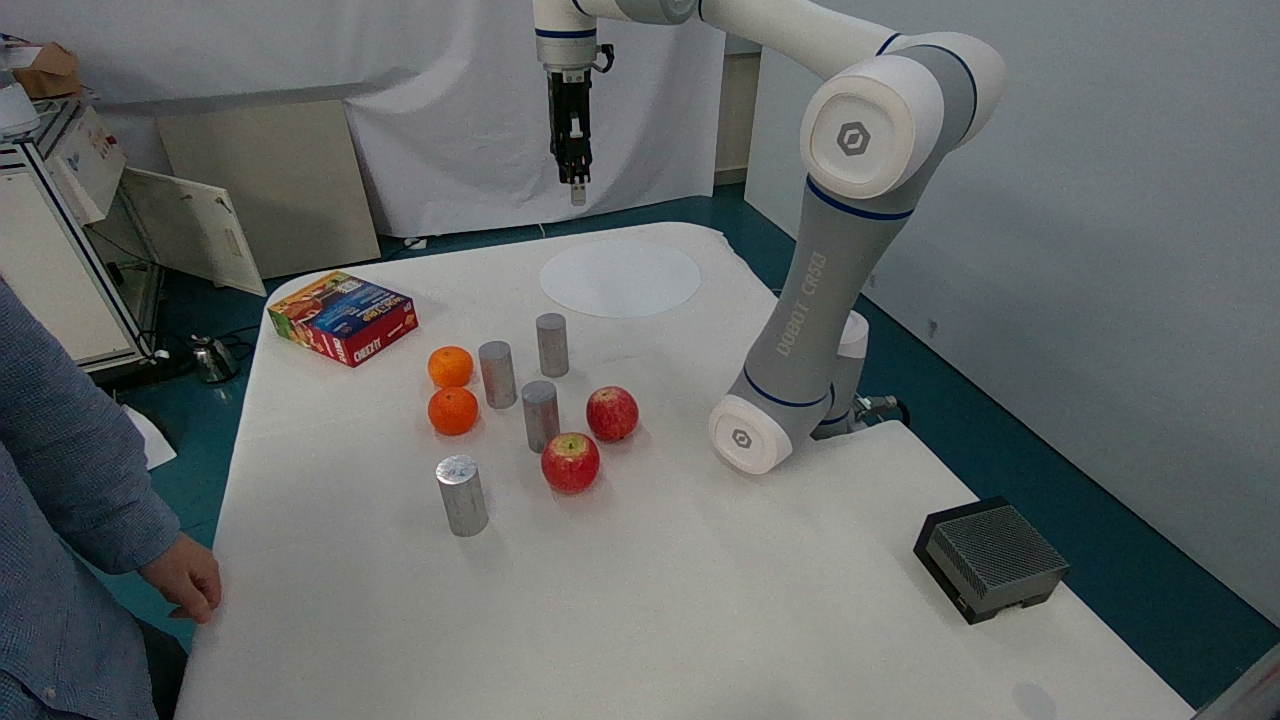apple: (536, 423, 612, 503), (579, 370, 643, 449)
metal rod: (425, 444, 498, 544), (473, 329, 523, 419), (515, 373, 565, 457), (524, 304, 575, 379)
orange: (409, 372, 490, 443), (414, 335, 483, 403)
